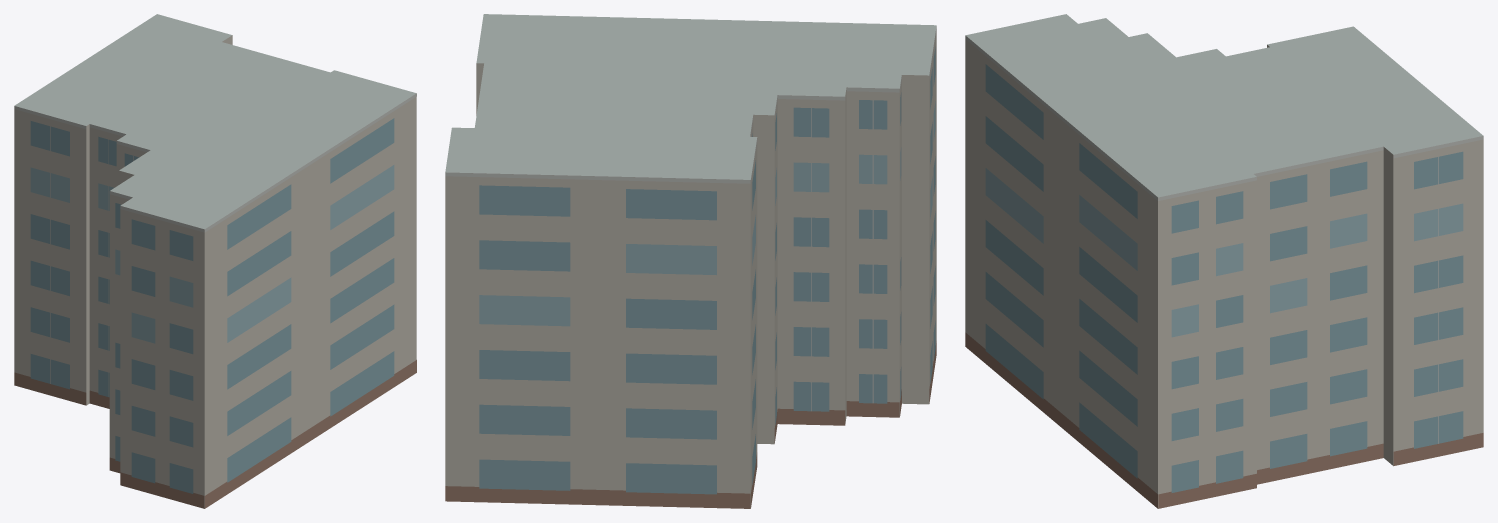
The model's file is survey-upis-32909717.glb.
The picture shows the model from 3 angles, left to right: view 1: azimuth 30°, elevation 25°; view 2: azimuth 150°, elevation 25°; view 3: azimuth 270°, elevation 25°; orthographic projection. The views are drawn at different scales.
Parts seen in each view (by area): view 1: survey-upis-32909717.tmp; view 2: survey-upis-32909717.tmp; view 3: survey-upis-32909717.tmp.
Part boxes in pixels (box(x1,y1,x2,y2)): survey-upis-32909717.tmp: box(14, 14, 416, 508); survey-upis-32909717.tmp: box(445, 14, 936, 508); survey-upis-32909717.tmp: box(965, 14, 1483, 508).
Bounding box in the file's own units: 26.43 × 20.9 × 31.53.
